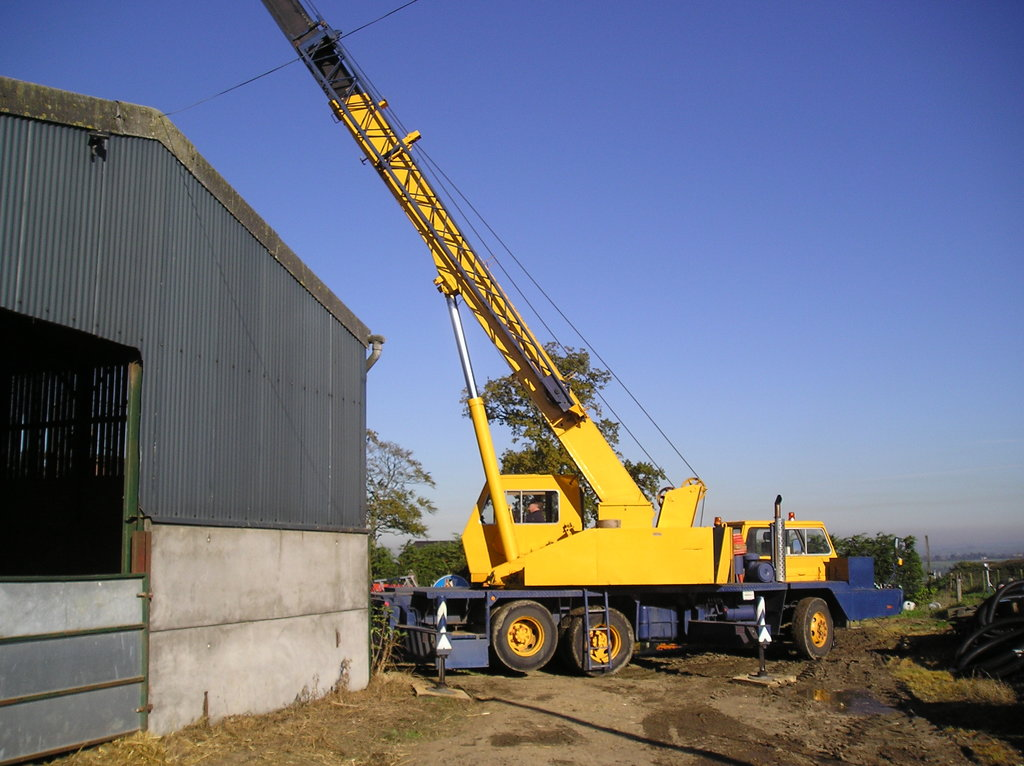truck: (385, 438, 888, 688)
